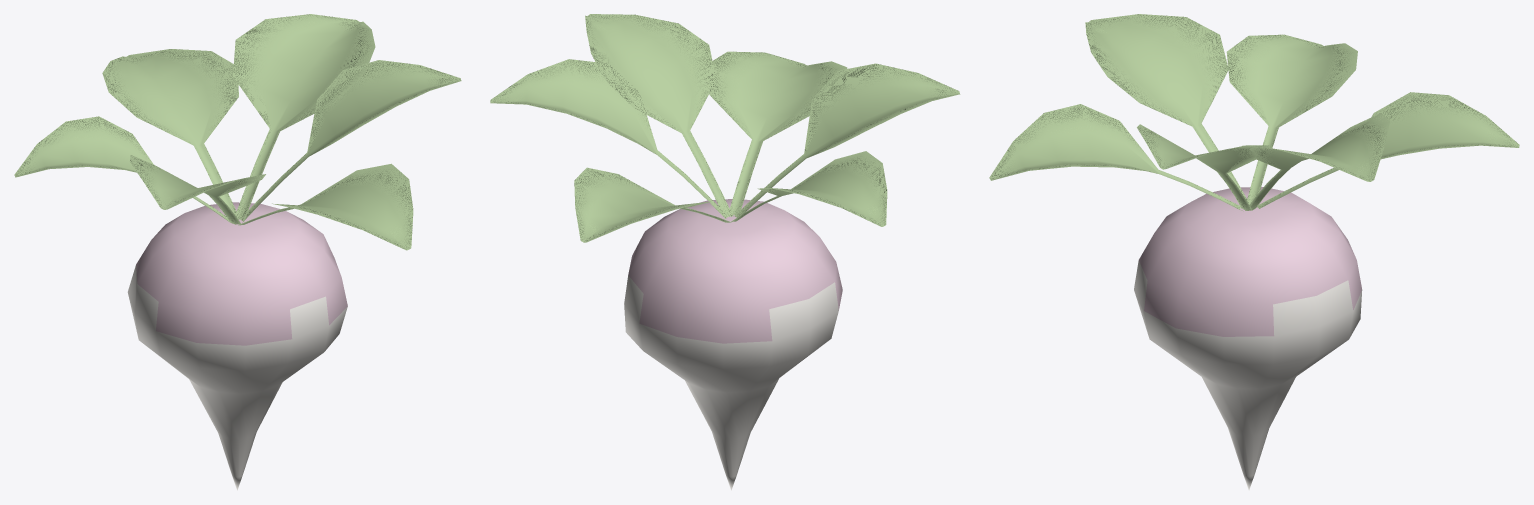
Rendered from RainTurnip_Item.fbx.
3 renders of one model, left to right at view 1: azimuth 30°, elevation 25°; view 2: azimuth 150°, elevation 25°; view 3: azimuth 270°, elevation 25°, orthographic. The views are drawn at different scales.
Parts seen in each view (by area): view 1: RainTurnip_Item; view 2: RainTurnip_Item; view 3: RainTurnip_Item.
Boxes of the visible parts, <box> form: RainTurnip_Item: <box>14,14,461,490</box>; RainTurnip_Item: <box>490,14,960,490</box>; RainTurnip_Item: <box>989,14,1519,490</box>.
Bounding box in the file's own units: 0.5287 × 0.5446 × 0.6227.
